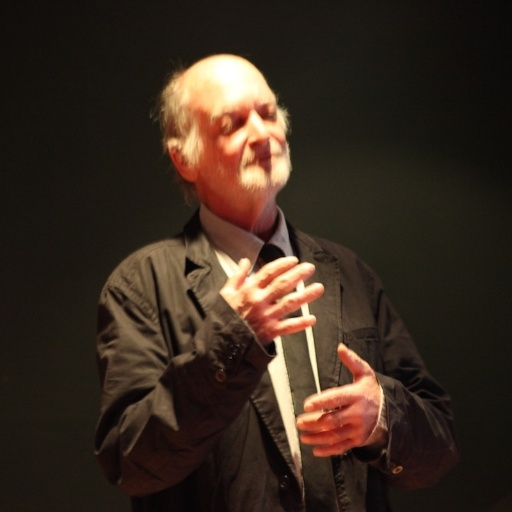hand: (204, 241, 329, 333), (296, 341, 380, 457)
